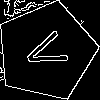V: (21, 26, 78, 75)
